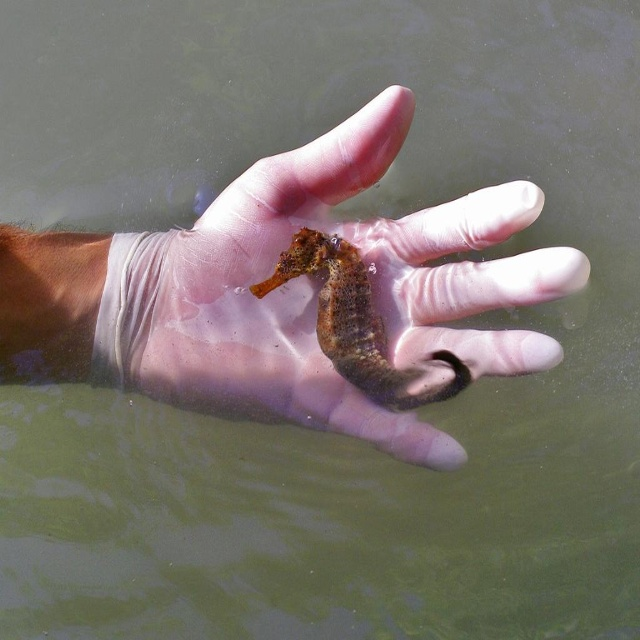Seahorse: (247, 222, 474, 421)
